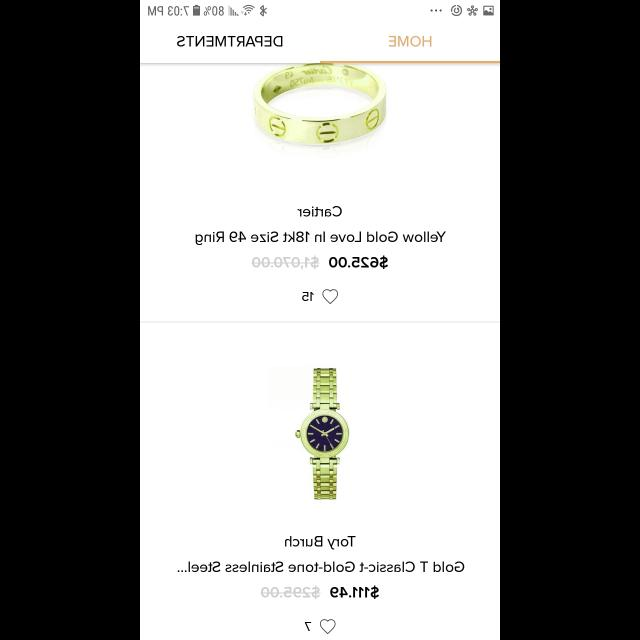icon: (320, 618, 336, 634), (322, 290, 338, 304)
image: (253, 64, 387, 160), (295, 368, 349, 500)
text: (195, 230, 445, 246), (178, 562, 464, 572), (260, 585, 380, 599), (250, 256, 388, 268), (177, 36, 283, 48), (284, 536, 356, 550), (388, 36, 432, 48), (298, 206, 342, 218), (302, 292, 314, 302), (304, 622, 312, 630)
uppertaskbar: (140, 1, 500, 17)
